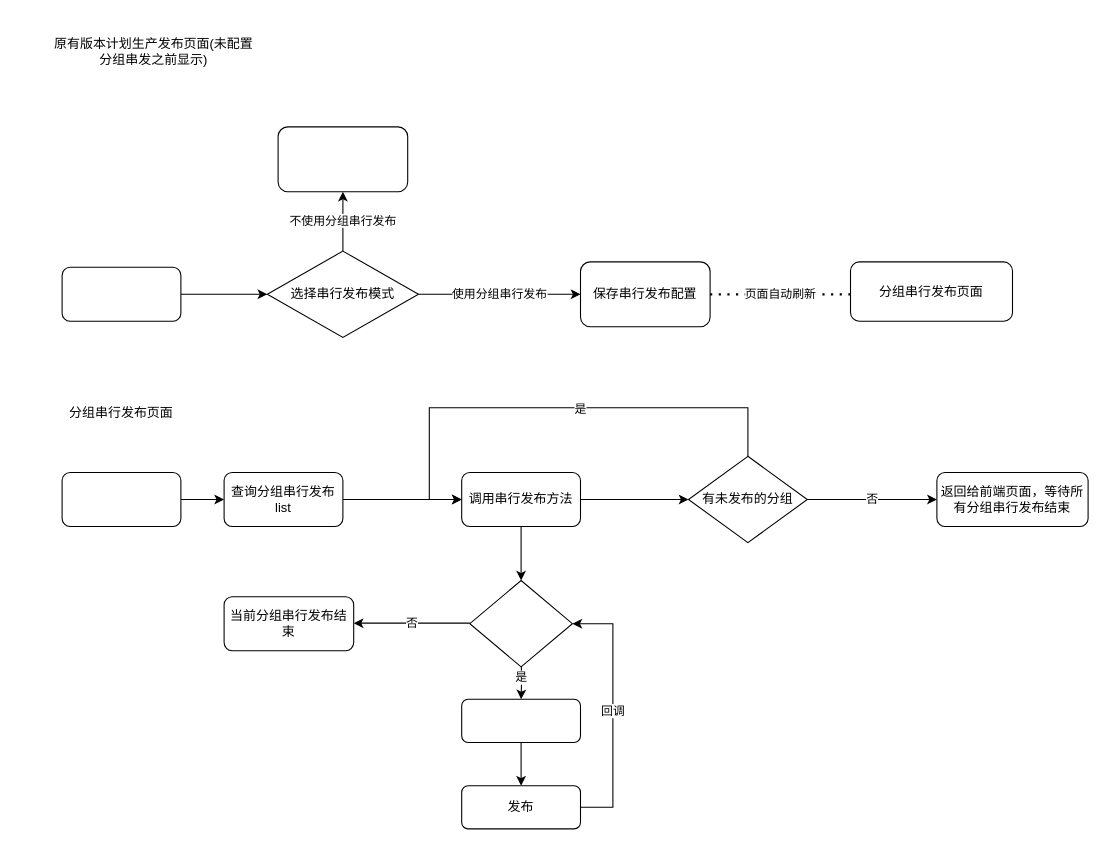
Some shapes in this 1107 by 848 pixel diagram are drawn without their labels. Here are the shapes that lost their labels. From the top down, the centre of each, then its label:
the point at 342,159: 原有发布逻辑
the point at 121,293: 开始串行发布
the point at 121,498: 启动所有串行发布/启动发布
the point at 520,623: 找到下一台 发布IP
the point at 520,720: 调用发布接口
